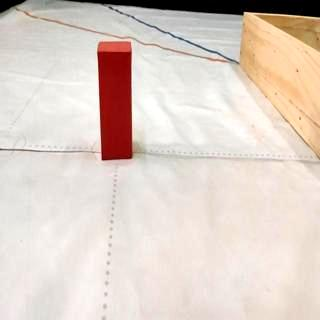redbox: (97, 41, 133, 160)
